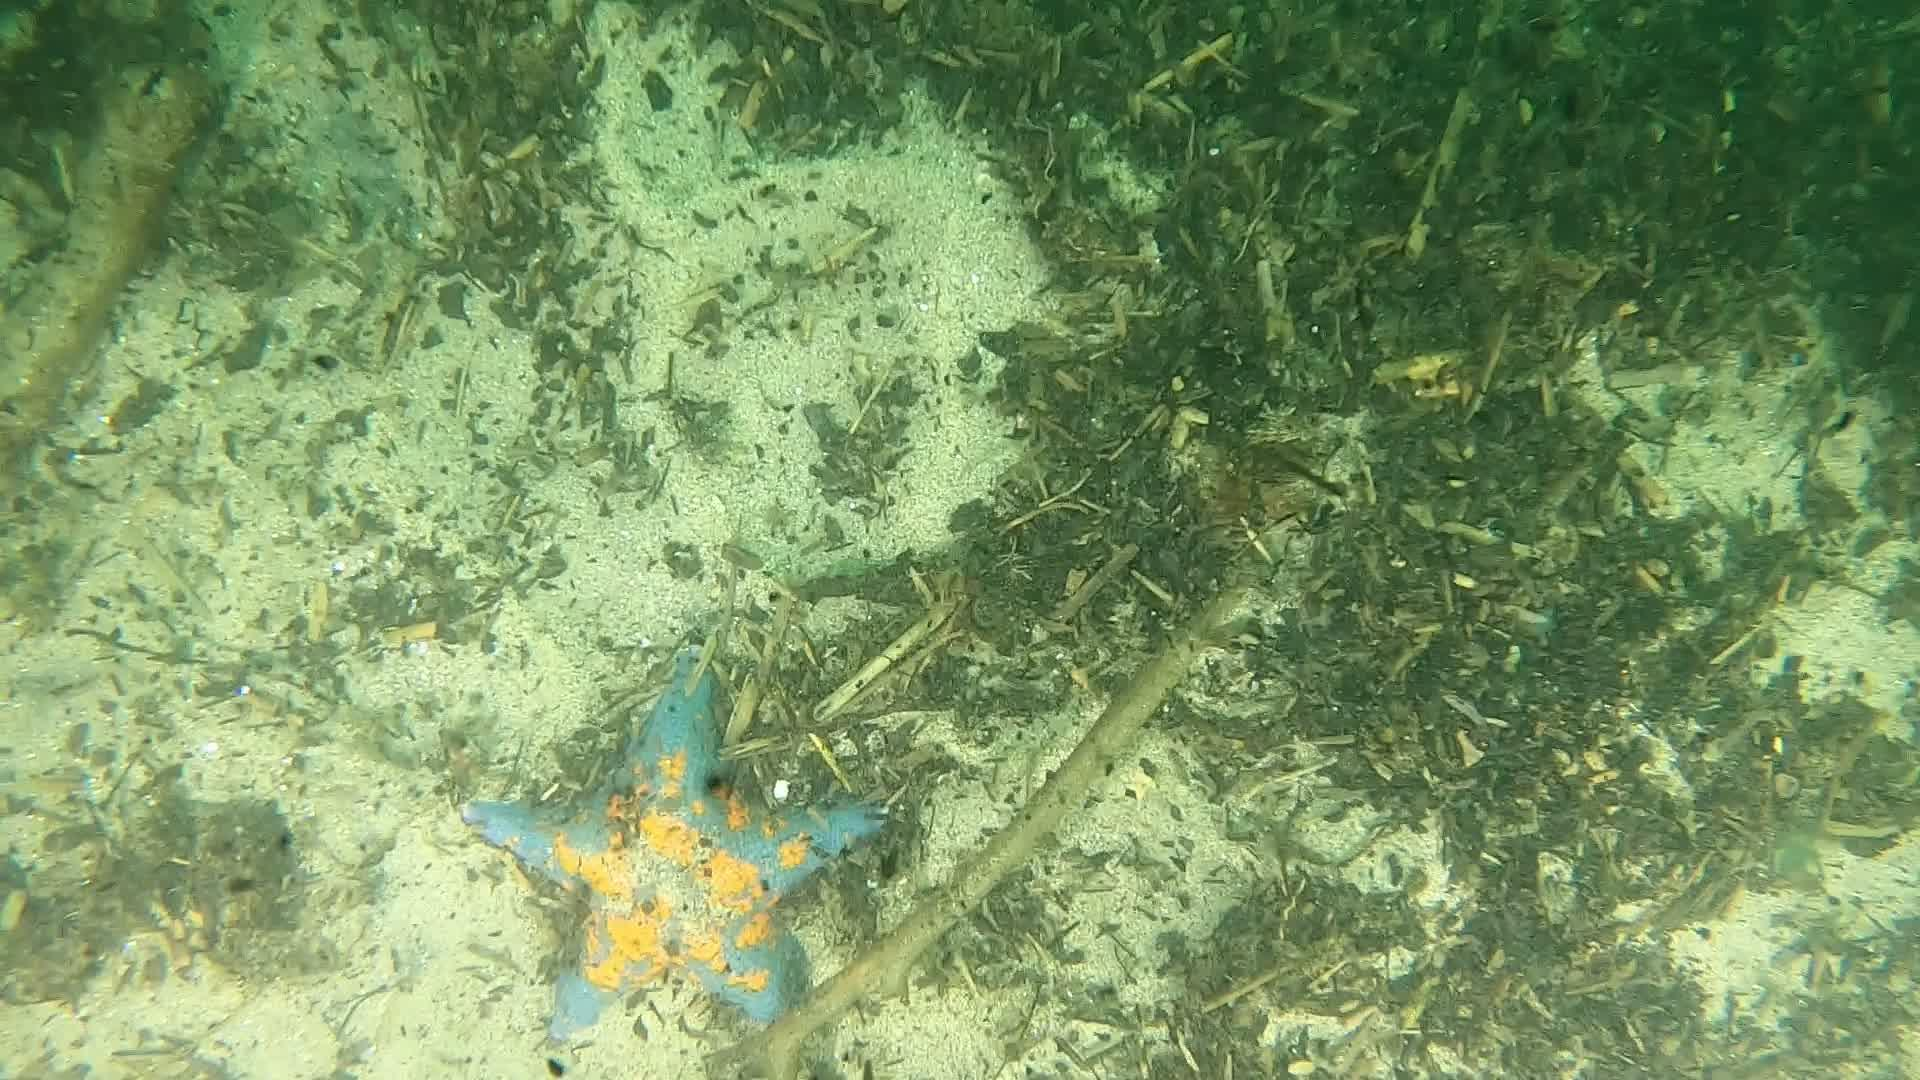wood: (742, 587, 1238, 1080)
